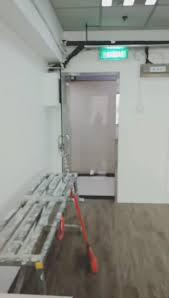exit: (61, 75, 117, 201)
lit_exit_sign: (99, 48, 129, 61)
